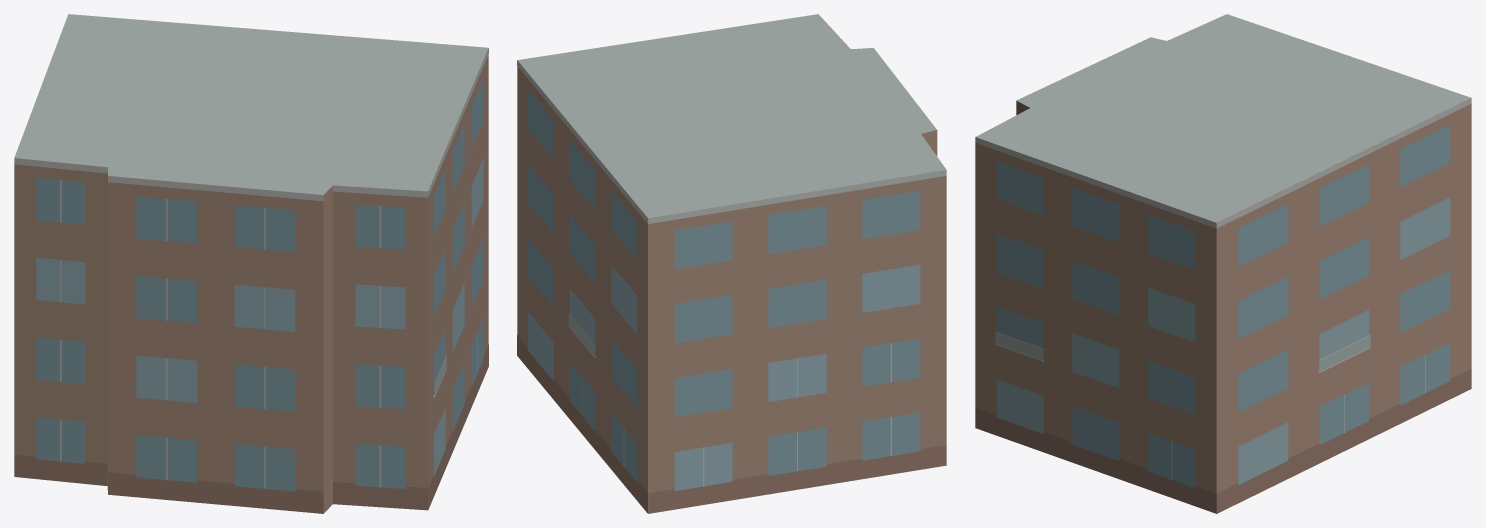
Rendered from survey-upis-32704698.glb.
3 views of the same model, side by side, from view 1: azimuth 30°, elevation 25°; view 2: azimuth 150°, elevation 25°; view 3: azimuth 270°, elevation 25° (orthographic). The views are drawn at different scales.
Parts seen in each view (by area): view 1: survey-upis-32704698.tmp; view 2: survey-upis-32704698.tmp; view 3: survey-upis-32704698.tmp.
Part boxes in pixels (x1,y1,x2,y2): survey-upis-32704698.tmp: (14,14,488,513); survey-upis-32704698.tmp: (517,14,946,513); survey-upis-32704698.tmp: (975,14,1471,513).
Bounding box in the file's own units: 19.1 × 12.4 × 19.17.
